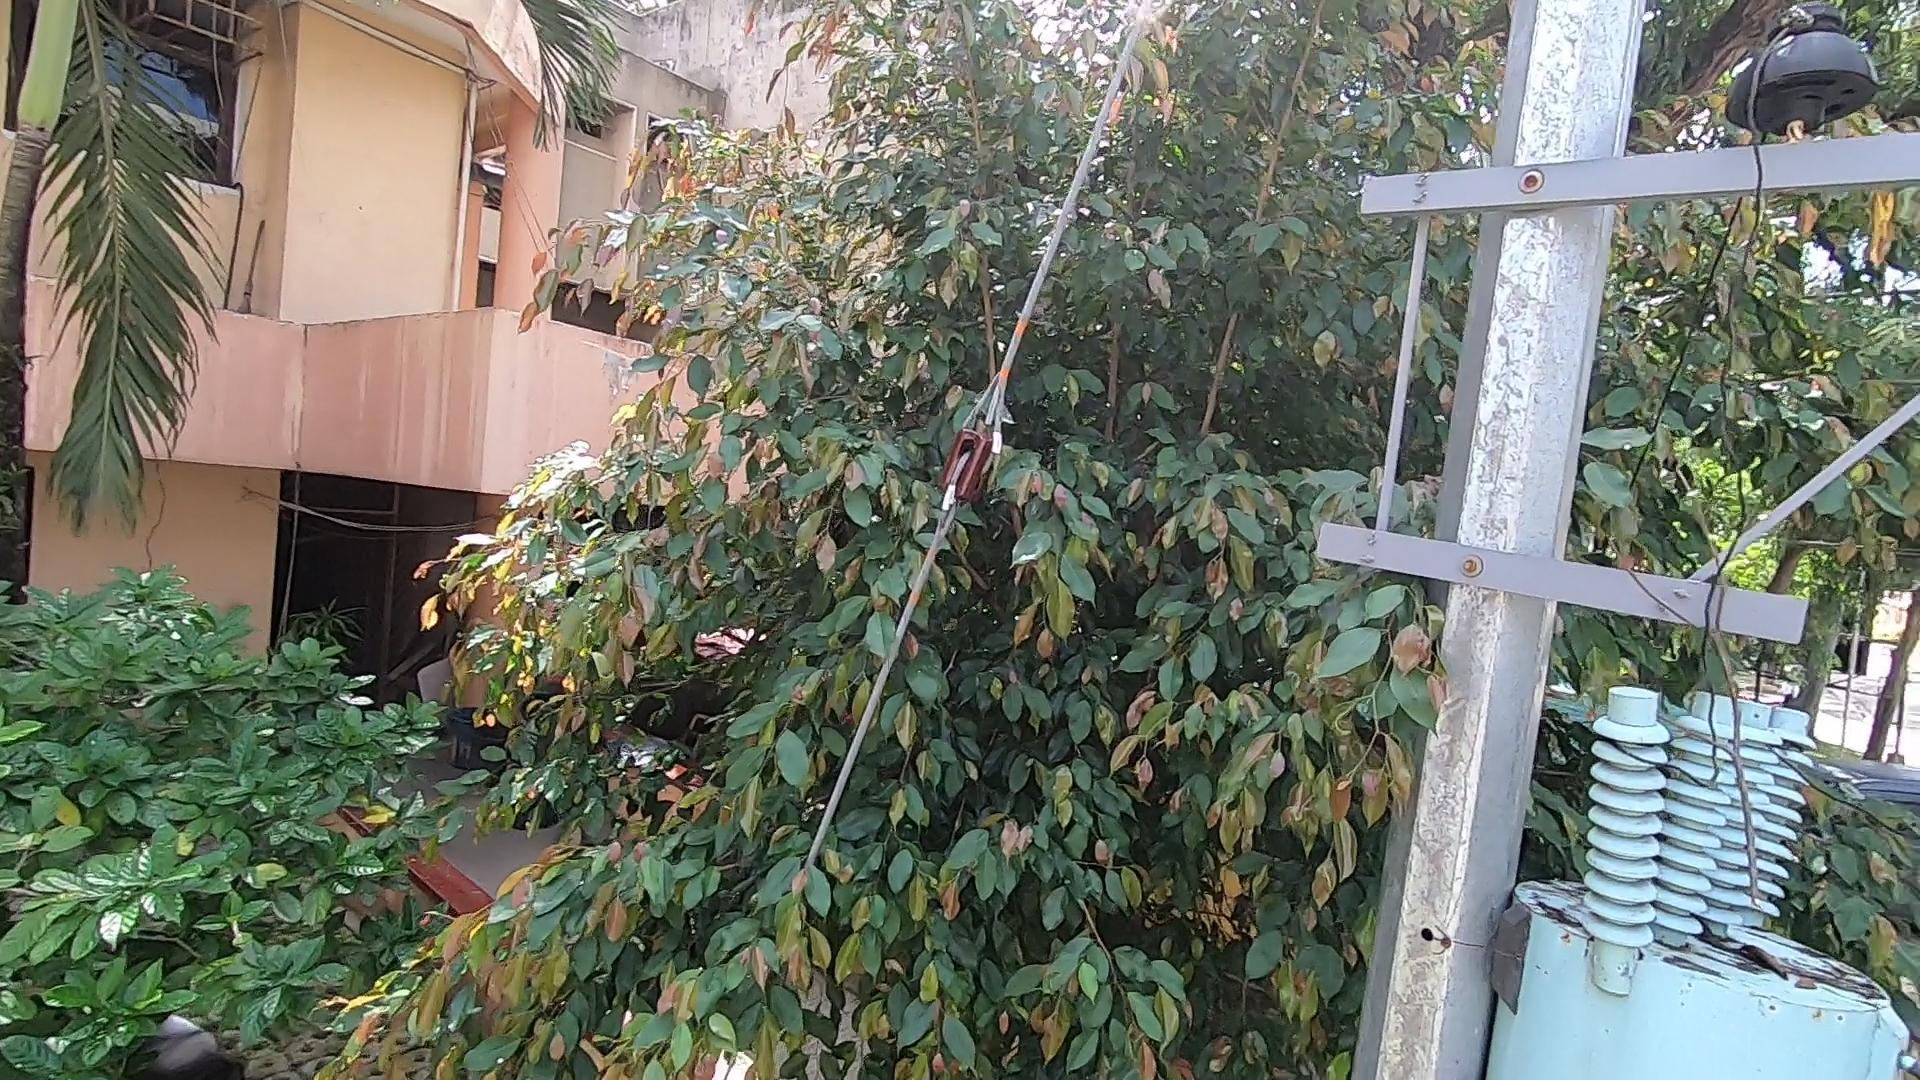leaf: (1688, 913, 1793, 989)
tree branch: (1597, 421, 1783, 909)
